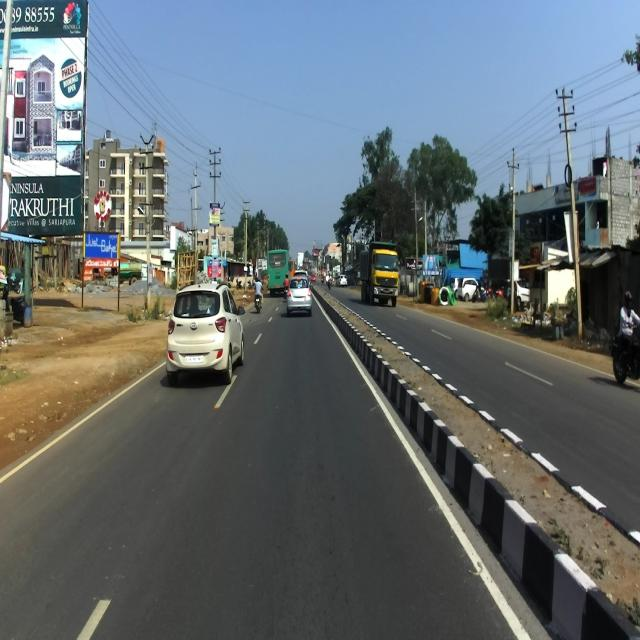Car_Hyundai: (166, 281, 245, 383)
motorcycle_bajaj: (610, 324, 639, 384)
